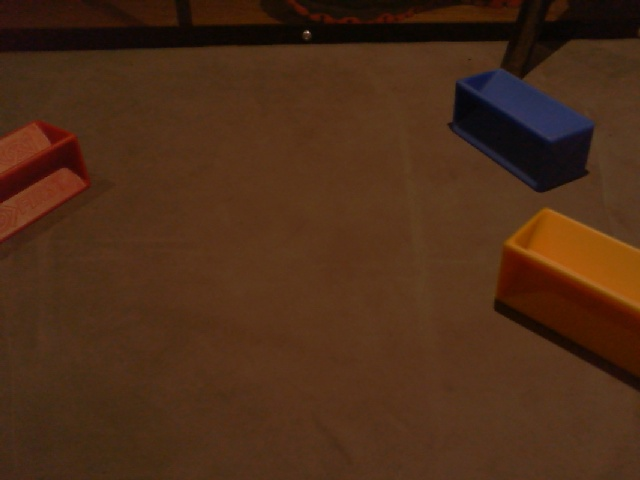BlueSample: (453, 64, 596, 193)
RedSample: (1, 118, 92, 246)
YellowSample: (493, 208, 640, 385)
